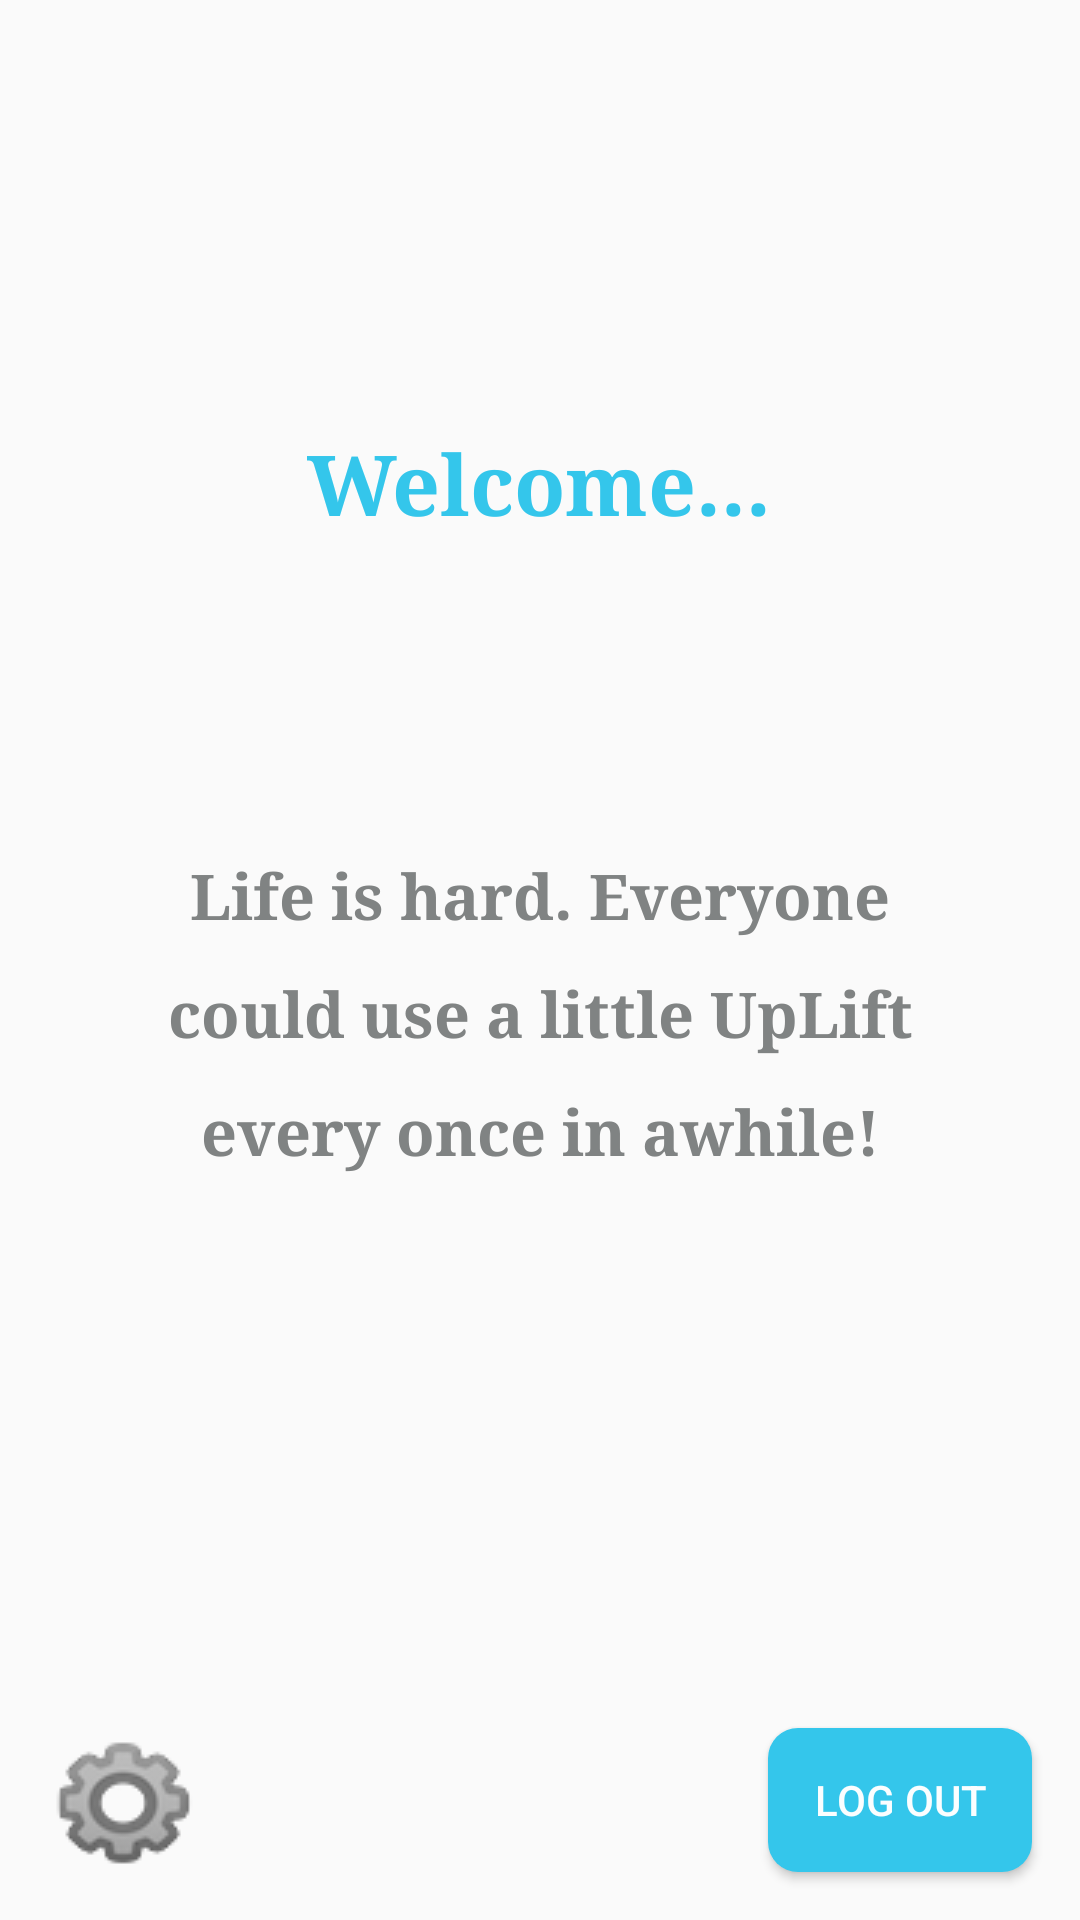

Named icons in this screenshot (1080 x 1920) and their bounding boxes, (x1, y1, x2, y2):
settings: (58, 1742, 190, 1864)
